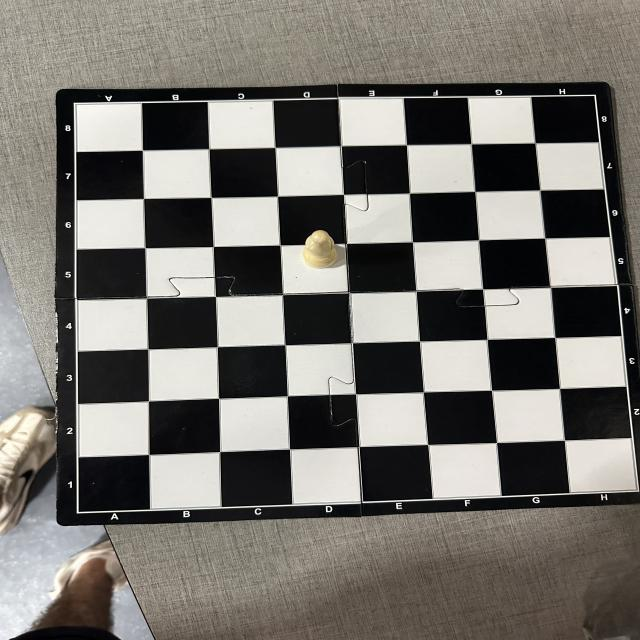White-Bishop: (302, 230, 338, 270)
